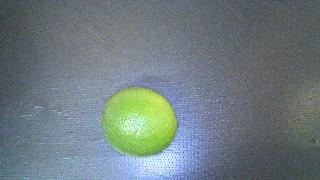EXPORTACION: (100, 87, 177, 157)
